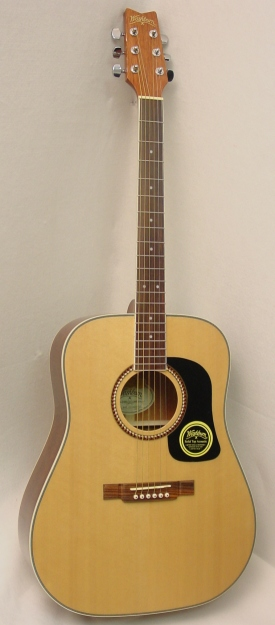guitar: (19, 9, 260, 619)
